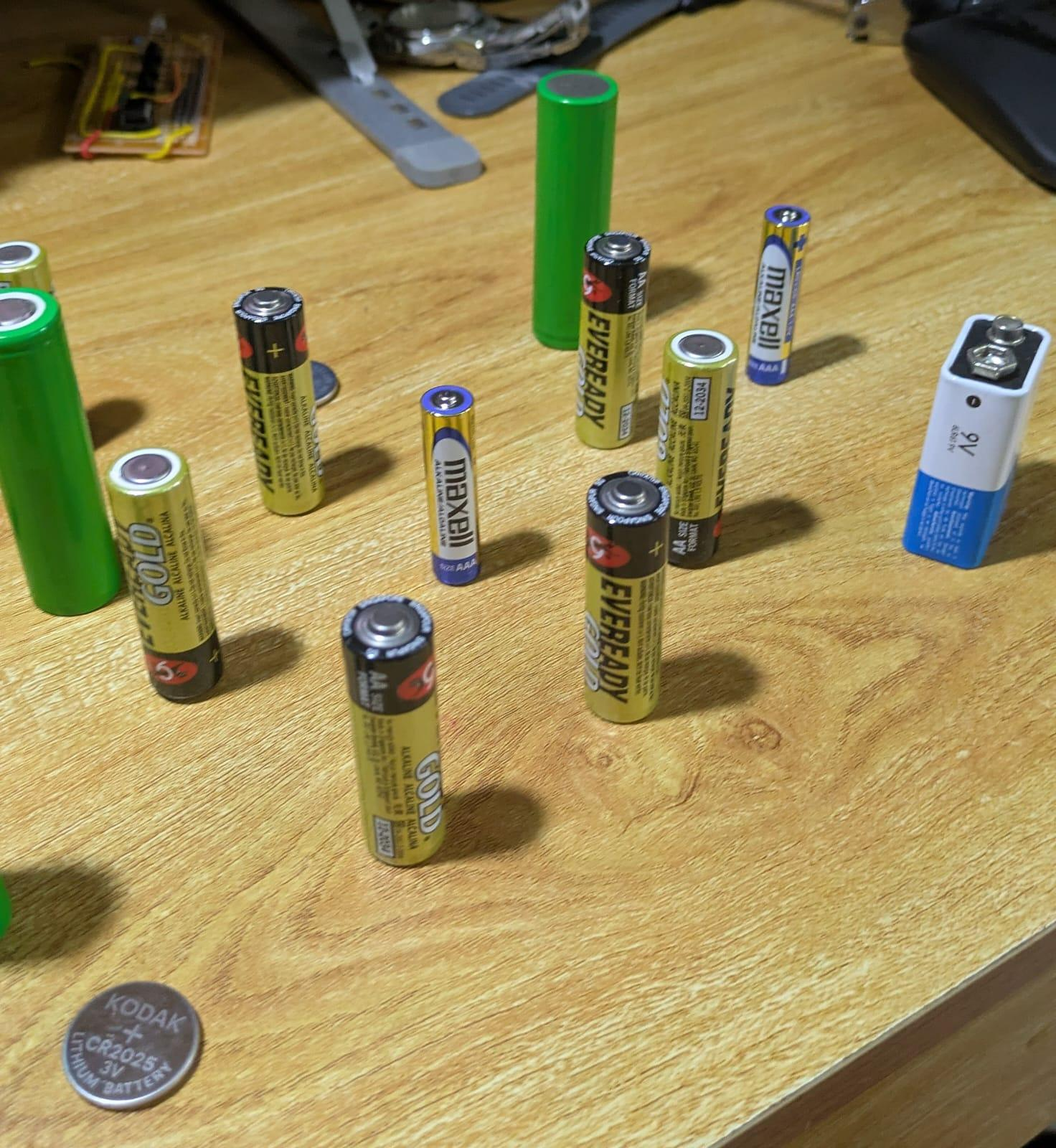9V: (892, 297, 1056, 580)
AA: (98, 441, 234, 711), (340, 587, 460, 876), (574, 465, 681, 729), (230, 273, 328, 521), (660, 319, 749, 567), (577, 223, 651, 457), (5, 235, 50, 279)
AAA: (414, 369, 490, 591), (744, 199, 817, 387)
COIN: (55, 973, 214, 1122), (309, 352, 344, 409)
